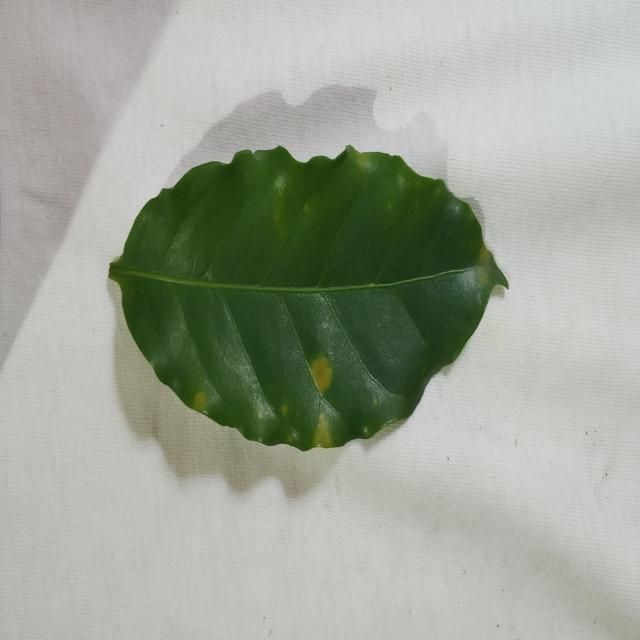Enfermedad-Roya: (107, 147, 509, 454)
